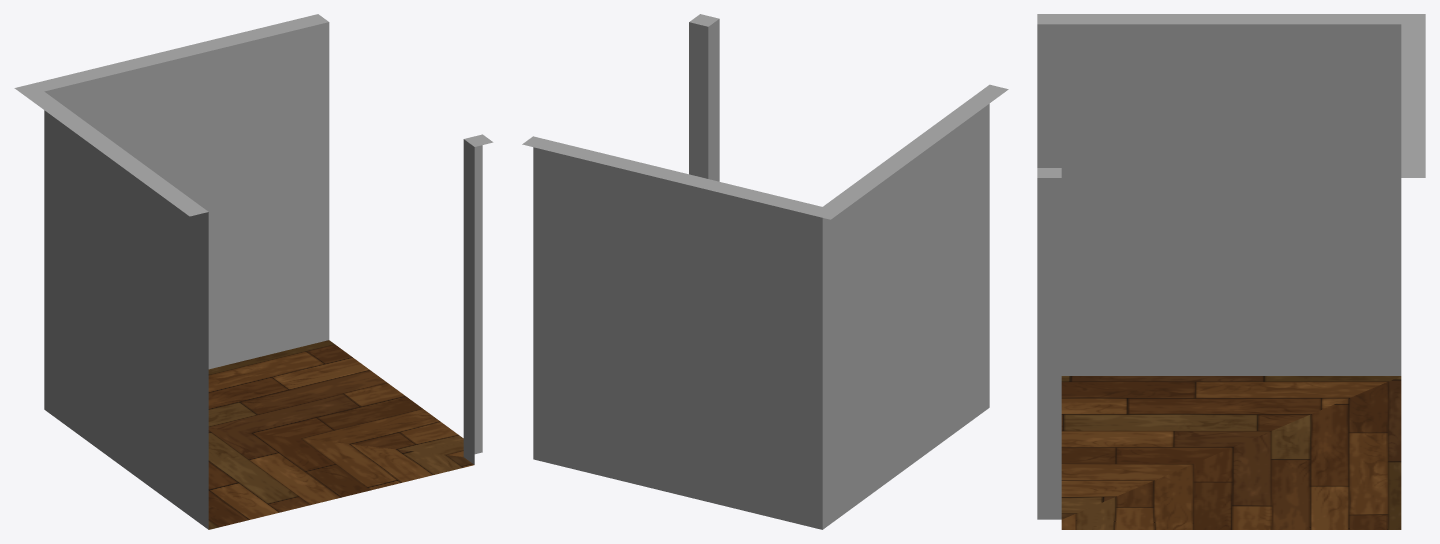
The model's file is Int_House_Corner_02.fbx.
3 renders of one model, left to right at view 1: azimuth 30°, elevation 25°; view 2: azimuth 150°, elevation 25°; view 3: azimuth 270°, elevation 25°, orthographic. The views are drawn at different scales.
Visible parts, largest first — view 1: Int_House_Corner_02; view 2: Int_House_Corner_02; view 3: Int_House_Corner_02.
Part boxes in pixels (x1,y1,x2,y2): Int_House_Corner_02: (14,14,493,529); Int_House_Corner_02: (522,14,1008,529); Int_House_Corner_02: (1037,14,1425,529).
Bounding box in the file's own units: 400 × 400 × 400.
2 materials, 1 textured.
